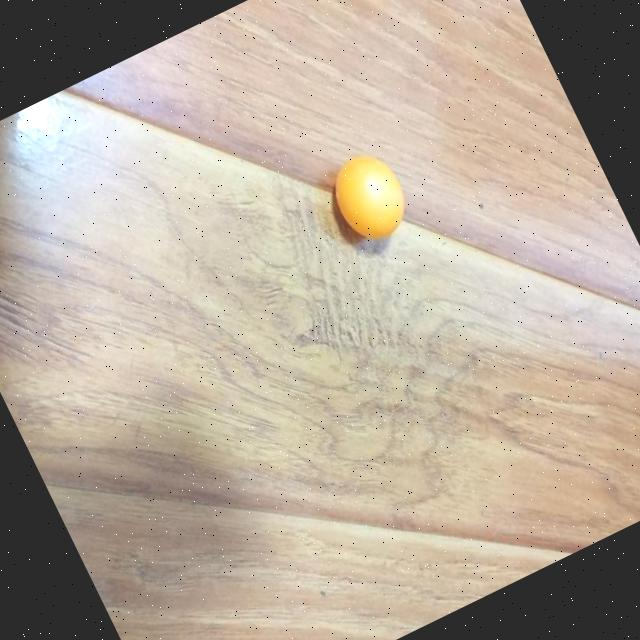ping-pong-ball: (322, 146, 418, 250)
